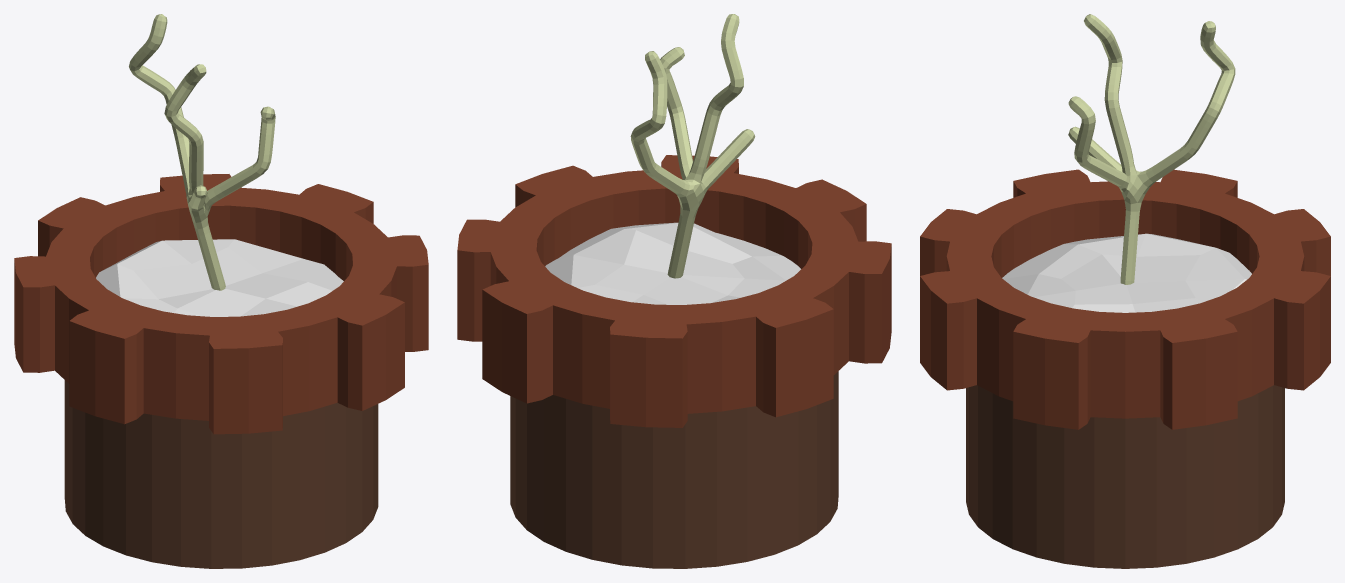
Rendered from potted_plant.fbx.
The picture shows the model from 3 angles, left to right: view 1: azimuth 30°, elevation 25°; view 2: azimuth 150°, elevation 25°; view 3: azimuth 270°, elevation 25°; orthographic projection. The views are drawn at different scales.
Visible parts, largest first — view 1: Vert.001; view 2: Vert.001; view 3: Vert.001.
Part boxes in pixels (left/top/right/bottom): Vert.001: left=14, top=14, right=428, bottom=568; Vert.001: left=457, top=14, right=891, bottom=568; Vert.001: left=920, top=14, right=1330, bottom=568.
Size of the model in its own units: 107 by 134 by 107.
